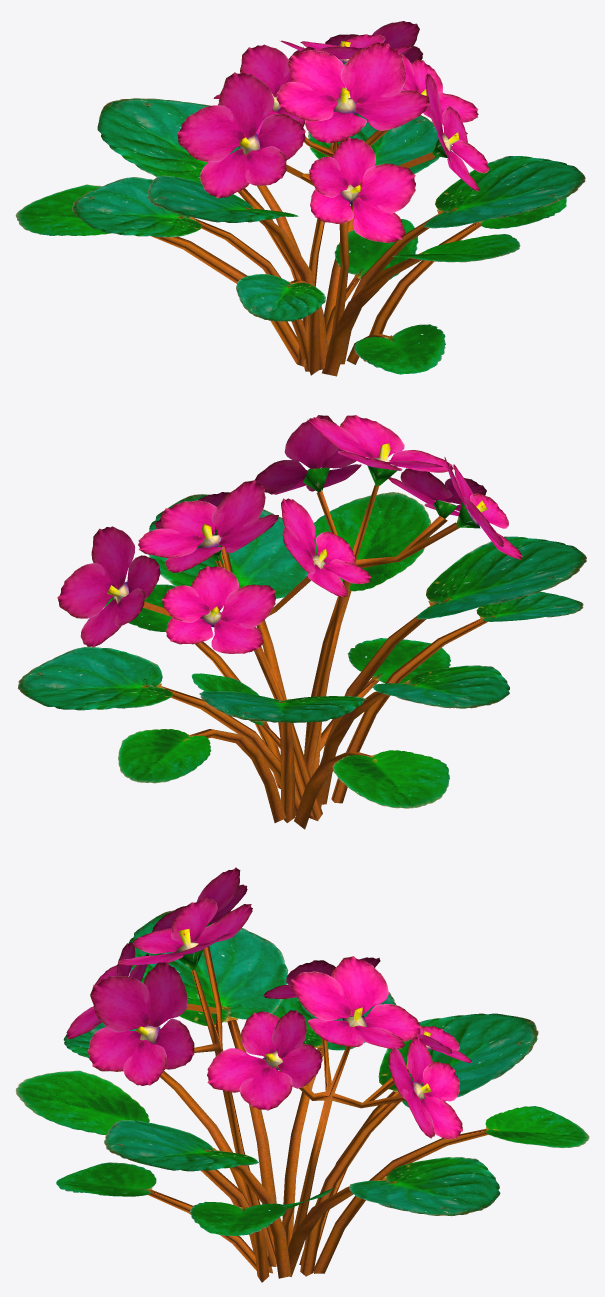
Rendered from Saintpaulia1C.fbx.
3 views of the same model, one above another, from view 1: azimuth 30°, elevation 25°; view 2: azimuth 150°, elevation 25°; view 3: azimuth 270°, elevation 25° (orthographic). The views are drawn at different scales.
Parts seen in each view (by area): view 1: Sainpaulia1C_LOD0; view 2: Sainpaulia1C_LOD0; view 3: Sainpaulia1C_LOD0.
Boxes of the visible parts, x1=… form: Sainpaulia1C_LOD0: x1=15, y1=21, x2=585, y2=376; Sainpaulia1C_LOD0: x1=17, y1=415, x2=586, y2=829; Sainpaulia1C_LOD0: x1=15, y1=867, x2=589, y2=1282.
Size of what is drawn, in the model's own units: 56.25 by 43.13 by 62.33.
